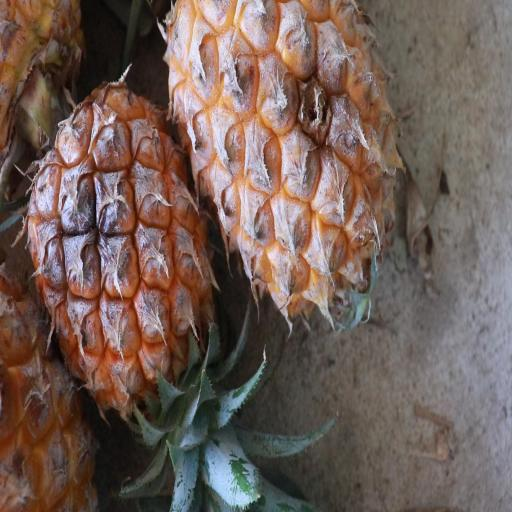Pineapple - v8 v1: (158, 0, 405, 338), (26, 75, 220, 479)
